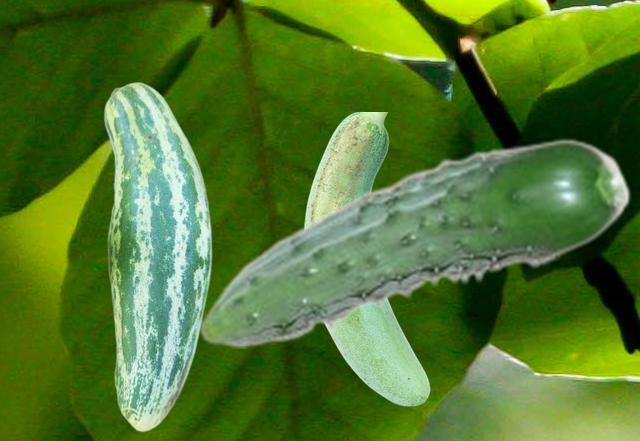cucumber: (198, 138, 631, 347), (103, 81, 211, 431), (303, 112, 429, 405)
